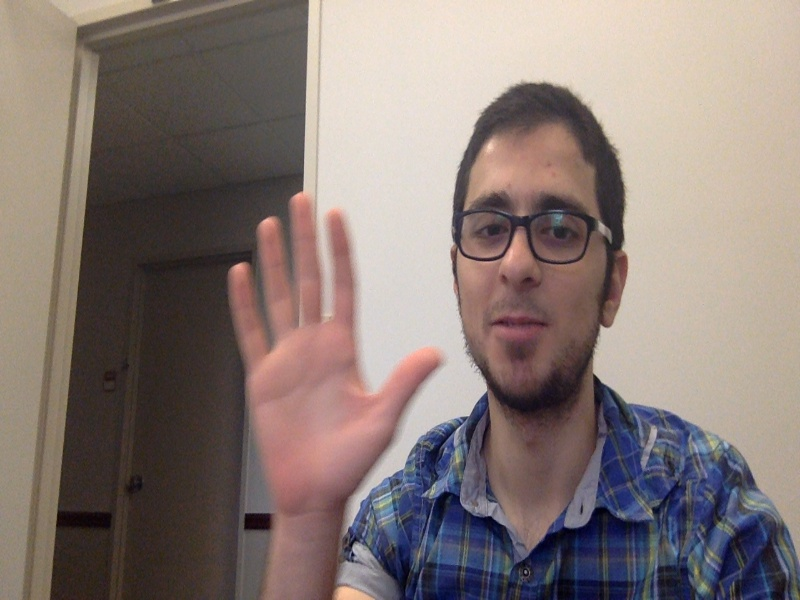5-hand: (220, 192, 444, 529)
